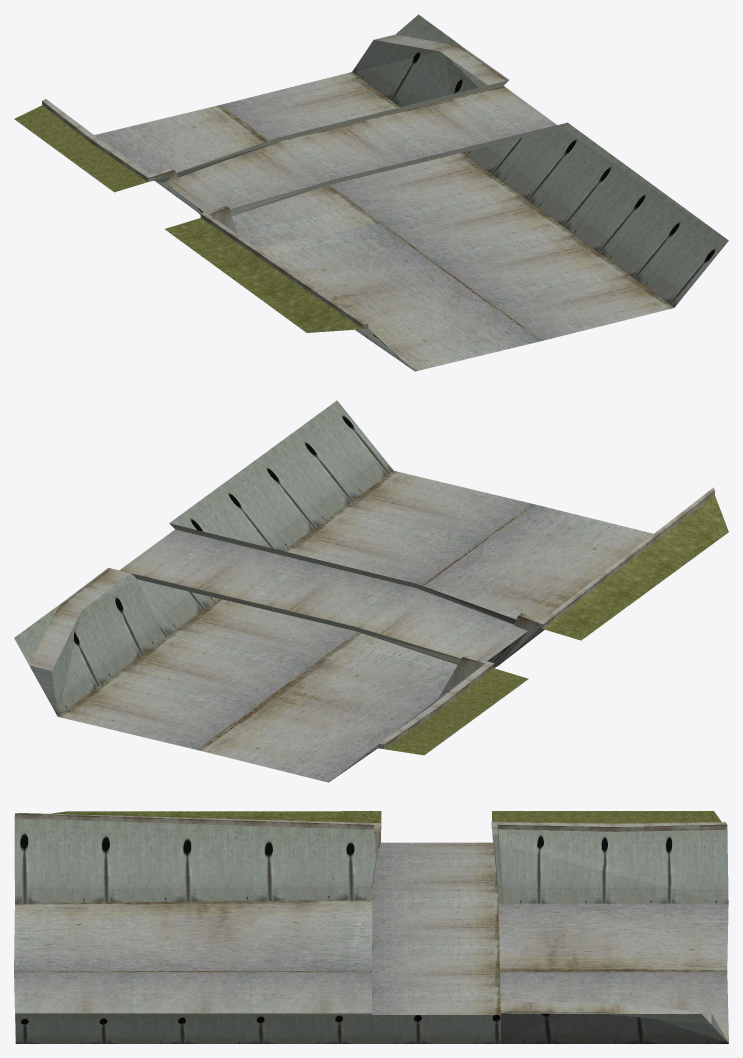
File: stormdrainlae2_04.obj
3 renders of one model, top to bottom at view 1: azimuth 30°, elevation 25°; view 2: azimuth 150°, elevation 25°; view 3: azimuth 270°, elevation 25°, orthographic. The views are drawn at different scales.
Parts seen in each view (by area): view 1: stormdrainLAE2_04; view 2: stormdrainLAE2_04; view 3: stormdrainLAE2_04.
Part boxes in pixels (left/top/right/bottom): stormdrainLAE2_04: left=14, top=14, right=728, bottom=371; stormdrainLAE2_04: left=14, top=400, right=728, bottom=782; stormdrainLAE2_04: left=14, top=811, right=728, bottom=1043.
Bounding box in the file's own units: 91.95 × 12.91 × 129.
